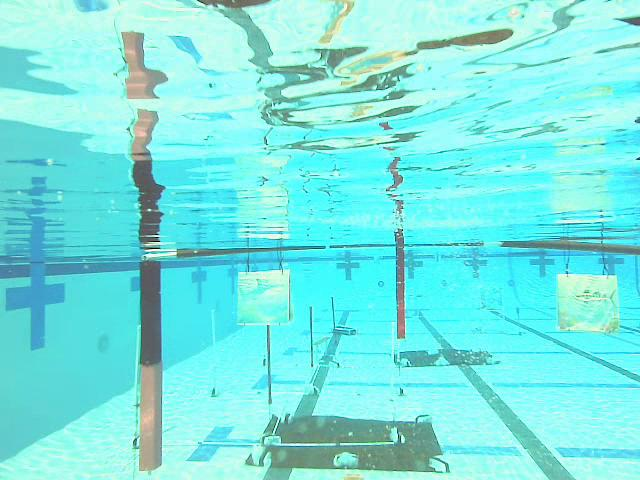black_poster: (331, 297, 339, 346), (310, 304, 314, 369)
divider: (397, 247, 404, 338)
left_gate_poster: (139, 262, 164, 470)
shark: (236, 271, 289, 325)
swordfish: (557, 273, 619, 332)
white_poster: (130, 324, 143, 448), (211, 311, 217, 397)
